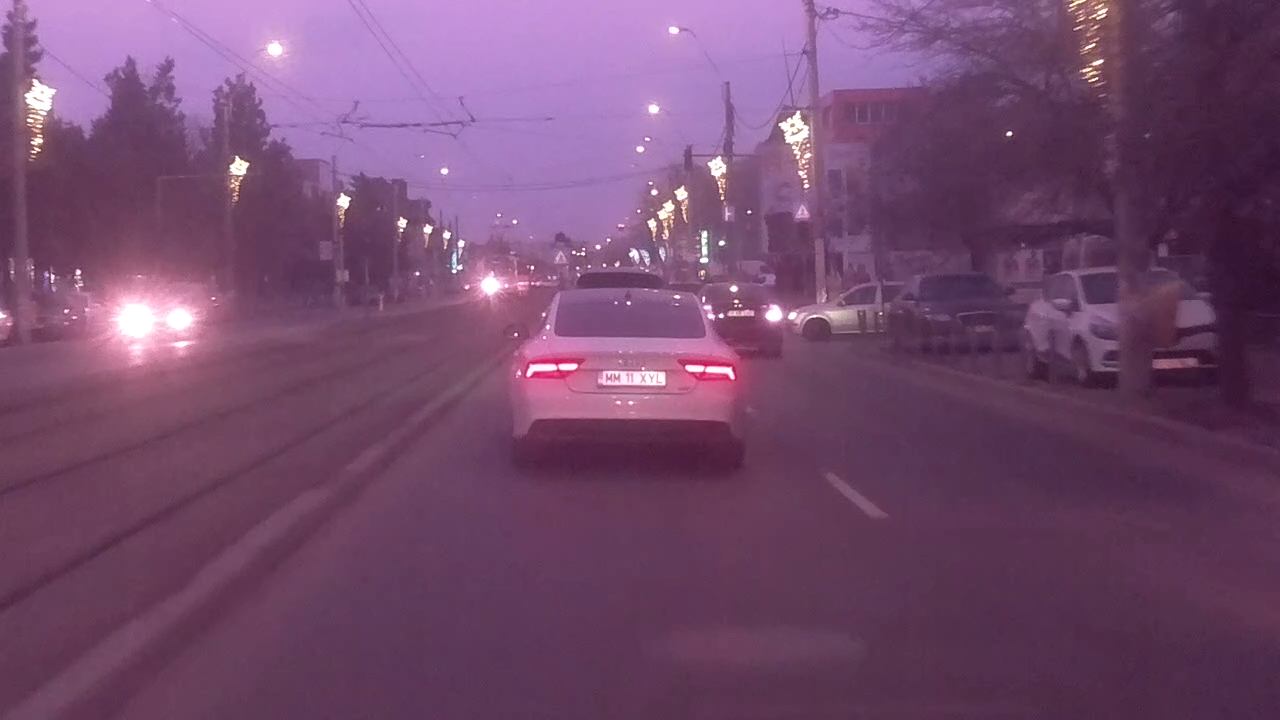license-plate: (593, 367, 670, 389)
